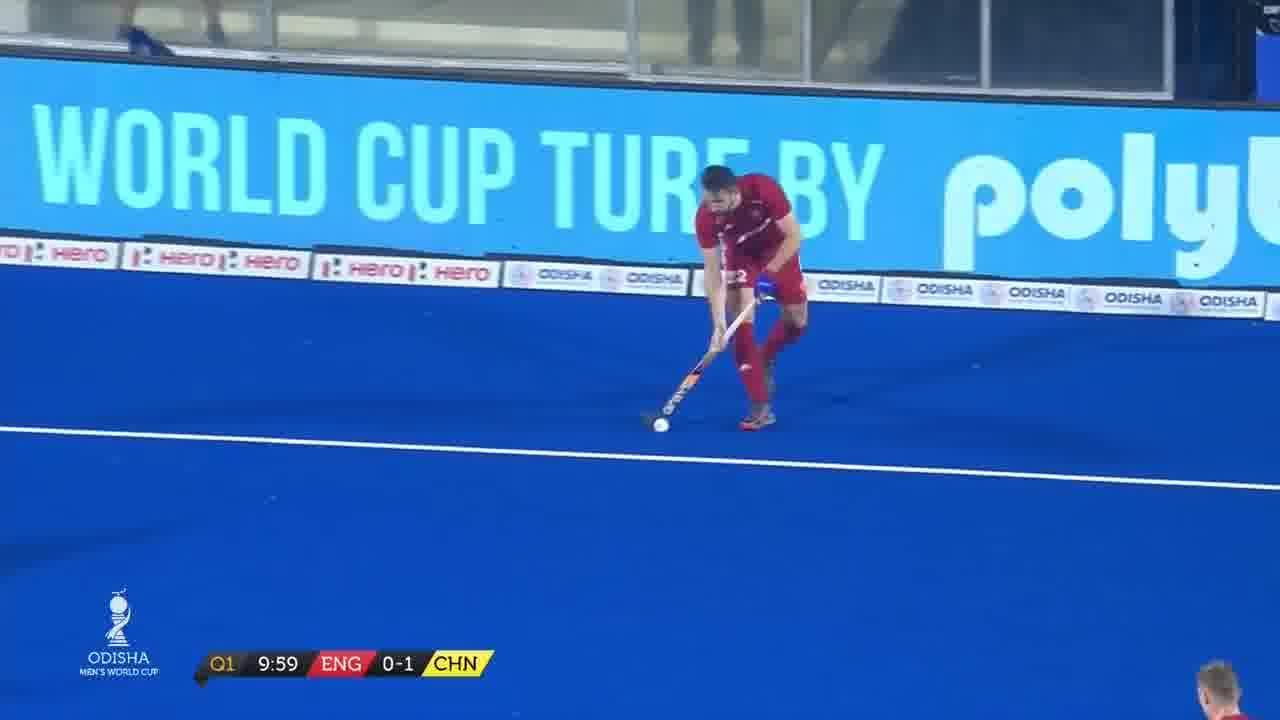ball: (650, 416, 672, 436)
